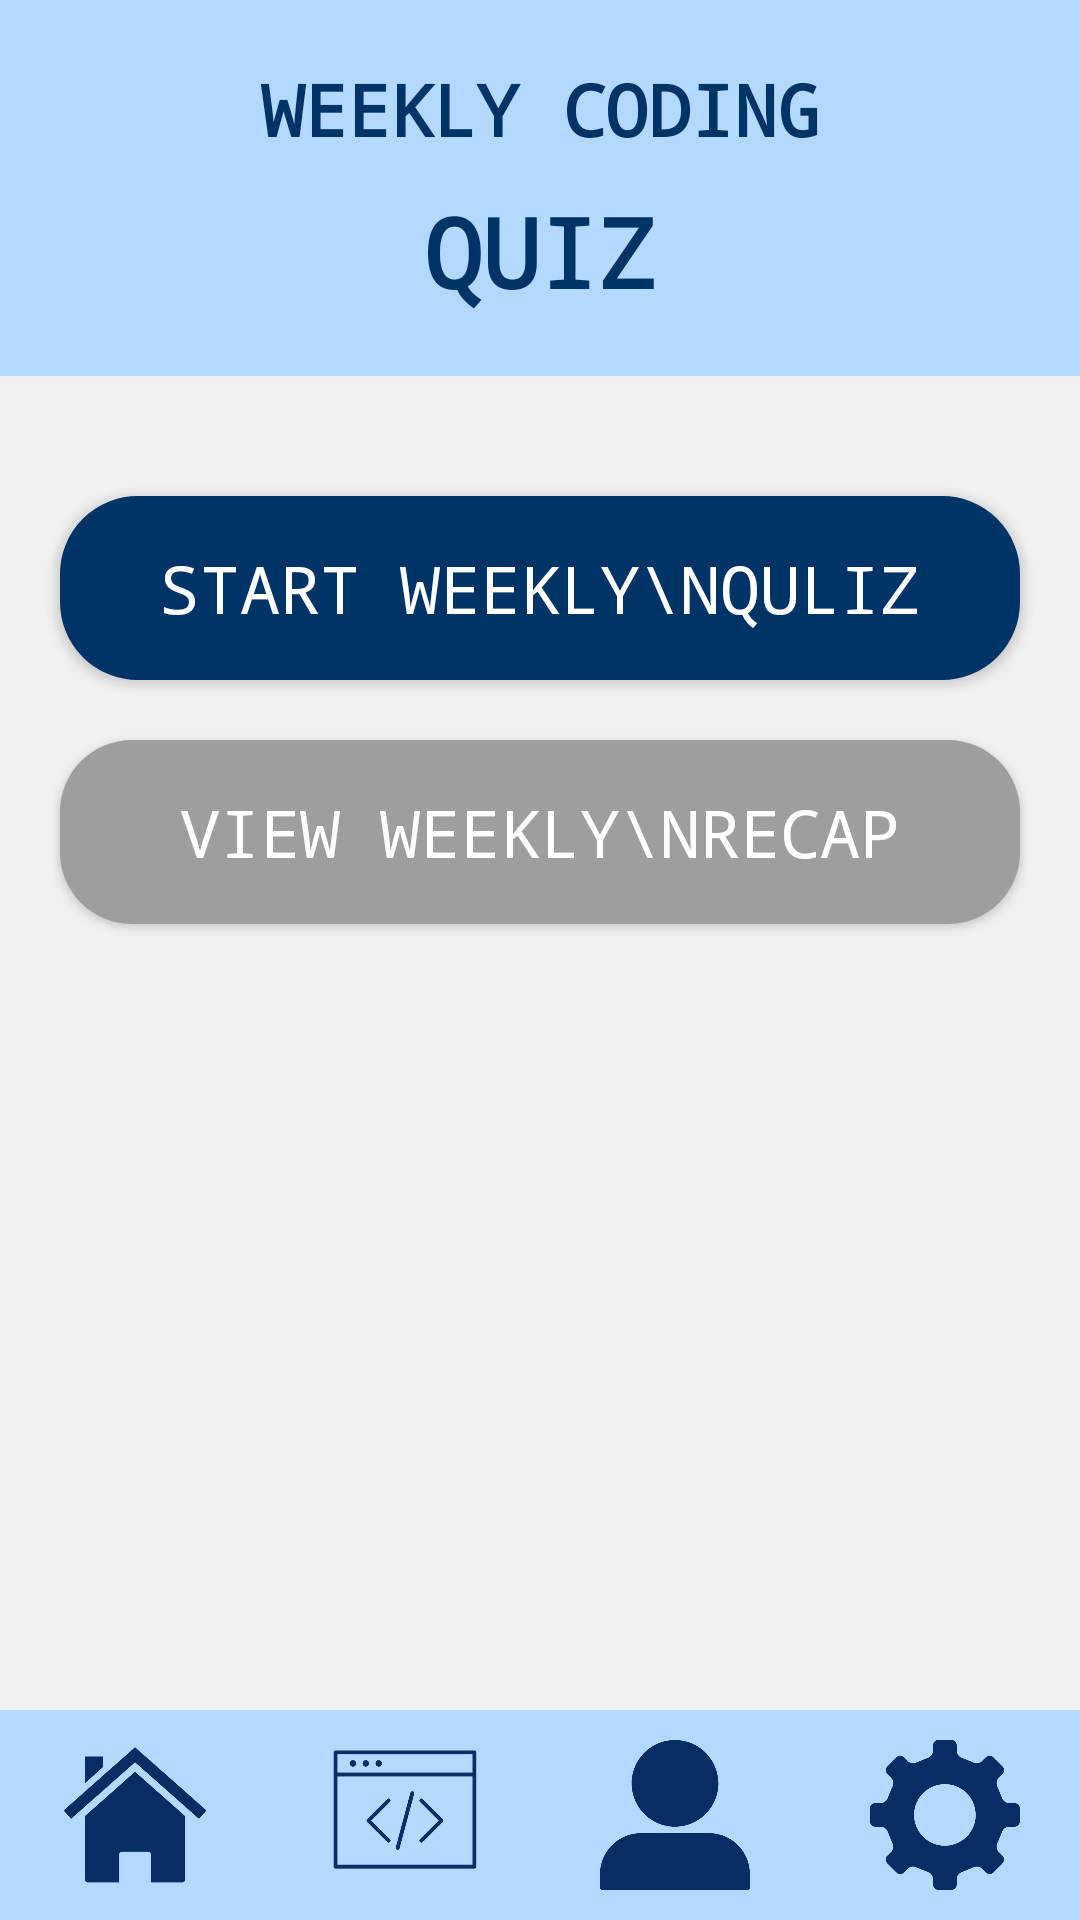

Point at icon controls on the screen. Image size 1080*1920, points as (x,y).
Code Quiz: (405,1809)
Home: (135,1815)
Profile: (675,1815)
Settings: (945,1815)
